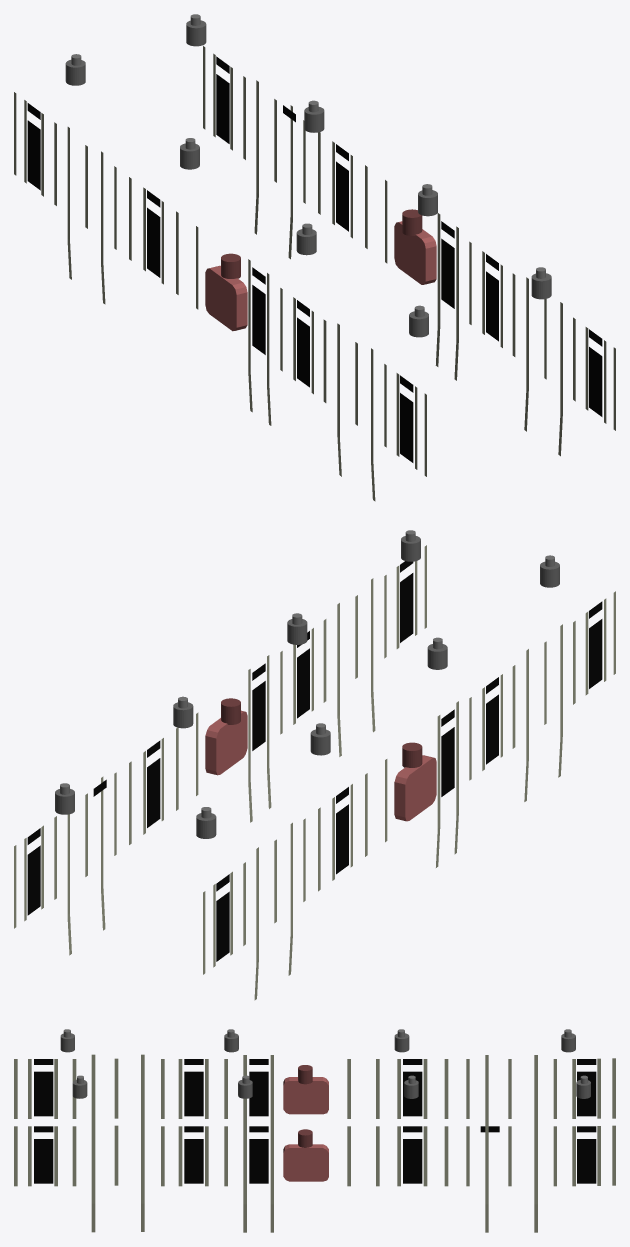
Rendered from mr-45ft-clerestory-full-brake-details.dae.
3 renders of one model, top to bottom at view 1: azimuth 30°, elevation 25°; view 2: azimuth 150°, elevation 25°; view 3: azimuth 270°, elevation 25°, orthographic. The views are drawn at different scales.
Visible parts, largest first — view 1: Cube_007_010, Cube_007_003, Plane_2231, Plane_2014, Plane_2029, Plane_2244, Plane_2196, Plane_2209, Plane_2218, Plane_2203, Plane_2224, Plane_2249; view 2: Cube_007_010, Cube_007_003, Plane_2029, Plane_2196, Plane_2244, Plane_2249, Plane_2209, Plane_2218, Plane_2231, Plane_2014, Plane_2203, Plane_2224; view 3: Cube_007_003, Cube_007_010, Plane_2203, Plane_2209, Plane_2218, Plane_2224, Plane_2231, Plane_2244, Plane_2249, Plane_2196, Plane_2014, Plane_2029 (+16 smaller).
Part boxes in pixels (left/top/right/bottom): Cube_007_010: left=205, top=265, right=247, bottom=331; Cube_007_003: left=394, top=221, right=436, bottom=284; Plane_2231: left=441, top=238, right=454, bottom=308; Plane_2014: left=147, top=207, right=160, bottom=277; Plane_2029: left=27, top=120, right=40, bottom=190; Plane_2244: left=216, top=74, right=229, bottom=143; Plane_2196: left=252, top=285, right=265, bottom=354; Plane_2209: left=400, top=393, right=413, bottom=462; Plane_2218: left=589, top=347, right=602, bottom=416; Plane_2203: left=297, top=317, right=309, bottom=387; Plane_2224: left=486, top=271, right=498, bottom=341; Plane_2249: left=336, top=161, right=348, bottom=231; Cube_007_010: left=394, top=755, right=436, bottom=821; Cube_007_003: left=205, top=710, right=247, bottom=775; Plane_2029: left=216, top=891, right=229, bottom=961; Plane_2196: left=441, top=727, right=454, bottom=796; Plane_2244: left=27, top=845, right=40, bottom=915; Plane_2249: left=147, top=758, right=160, bottom=827; Plane_2209: left=589, top=619, right=602, bottom=688; Plane_2218: left=400, top=573, right=413, bottom=642; Plane_2231: left=252, top=681, right=265, bottom=750; Plane_2014: left=336, top=804, right=348, bottom=874; Plane_2203: left=486, top=694, right=498, bottom=764; Plane_2224: left=297, top=648, right=309, bottom=718; Cube_007_003: left=283, top=1144, right=328, bottom=1181; Cube_007_010: left=283, top=1077, right=328, bottom=1114; Plane_2203: left=184, top=1071, right=203, bottom=1116; Plane_2209: left=34, top=1071, right=53, bottom=1116; Plane_2218: left=34, top=1139, right=53, bottom=1183; Plane_2224: left=184, top=1139, right=203, bottom=1183; Plane_2231: left=249, top=1139, right=268, bottom=1183; Plane_2244: left=577, top=1139, right=596, bottom=1183; Plane_2249: left=403, top=1139, right=422, bottom=1183; Plane_2196: left=249, top=1071, right=268, bottom=1116; Plane_2014: left=403, top=1071, right=422, bottom=1116; Plane_2029: left=577, top=1071, right=596, bottom=1116.
Size of the model in its own units: 2.08 by 7.42 by 1.99.
